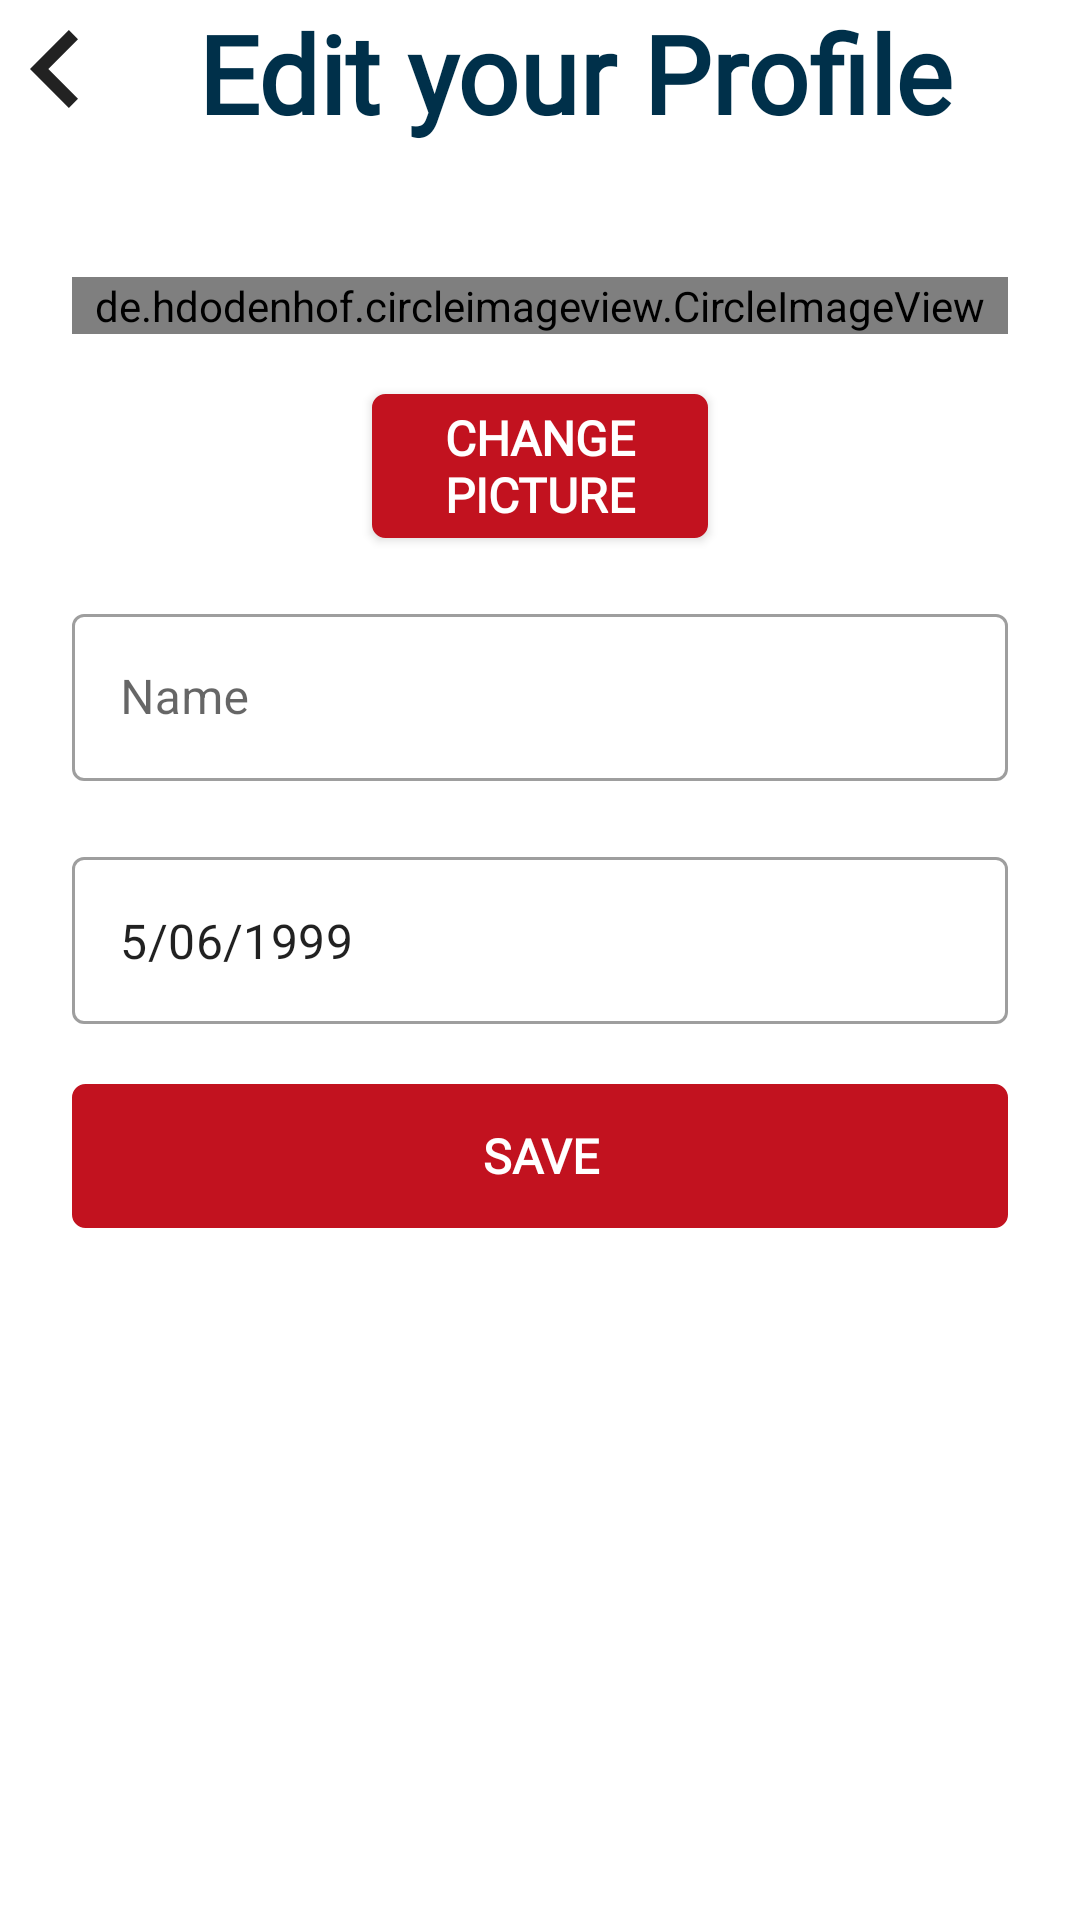

Icon click points for this 1080*1920 phone screenshot, format [x,y]:
back: [54,69]
